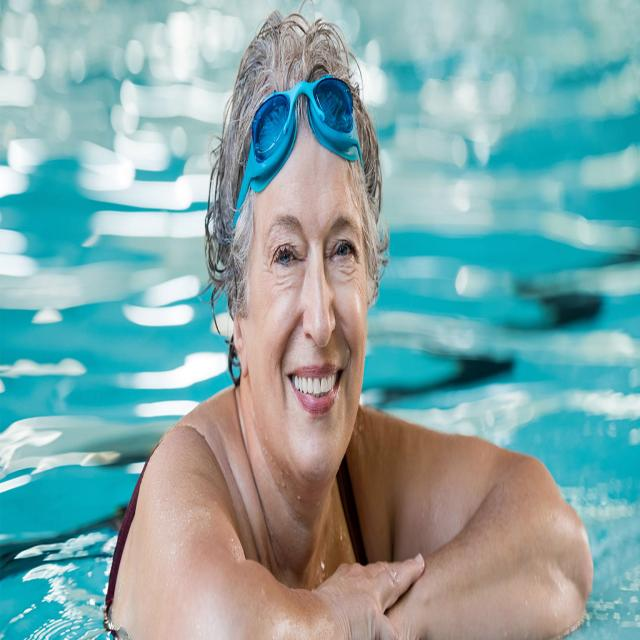adult: (109, 12, 594, 640)
